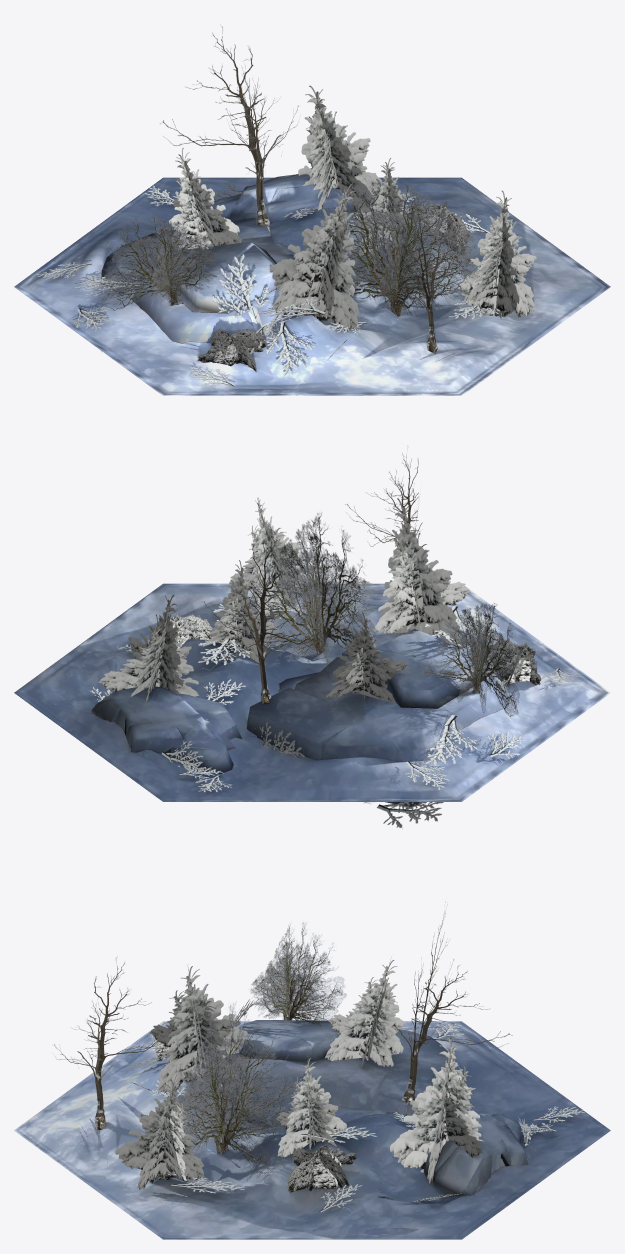
File: taiga_2_0_baked.glb
3 renders of one model, top to bottom at view 1: azimuth 30°, elevation 25°; view 2: azimuth 150°, elevation 25°; view 3: azimuth 270°, elevation 25°, orthographic.
Visible parts, largest first — view 1: taiga_2_0; view 2: taiga_2_0; view 3: taiga_2_0.
Part boxes in pixels (bbox=[...]): taiga_2_0: bbox=[14, 24, 610, 395]; taiga_2_0: bbox=[14, 446, 610, 828]; taiga_2_0: bbox=[14, 902, 610, 1239].
Bounding box in the file's own units: 1.75 × 1.11 × 2.
6 materials, 6 textured.
